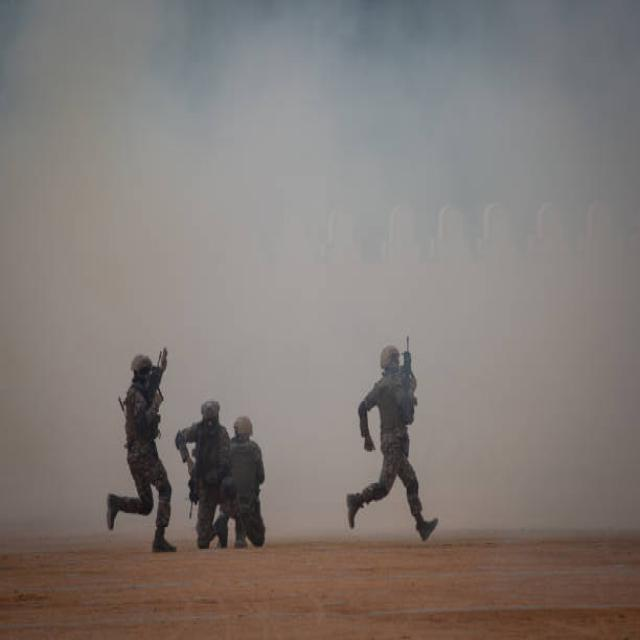soldier: (346, 334, 440, 542), (107, 345, 176, 553), (175, 400, 234, 549), (230, 415, 266, 547)
